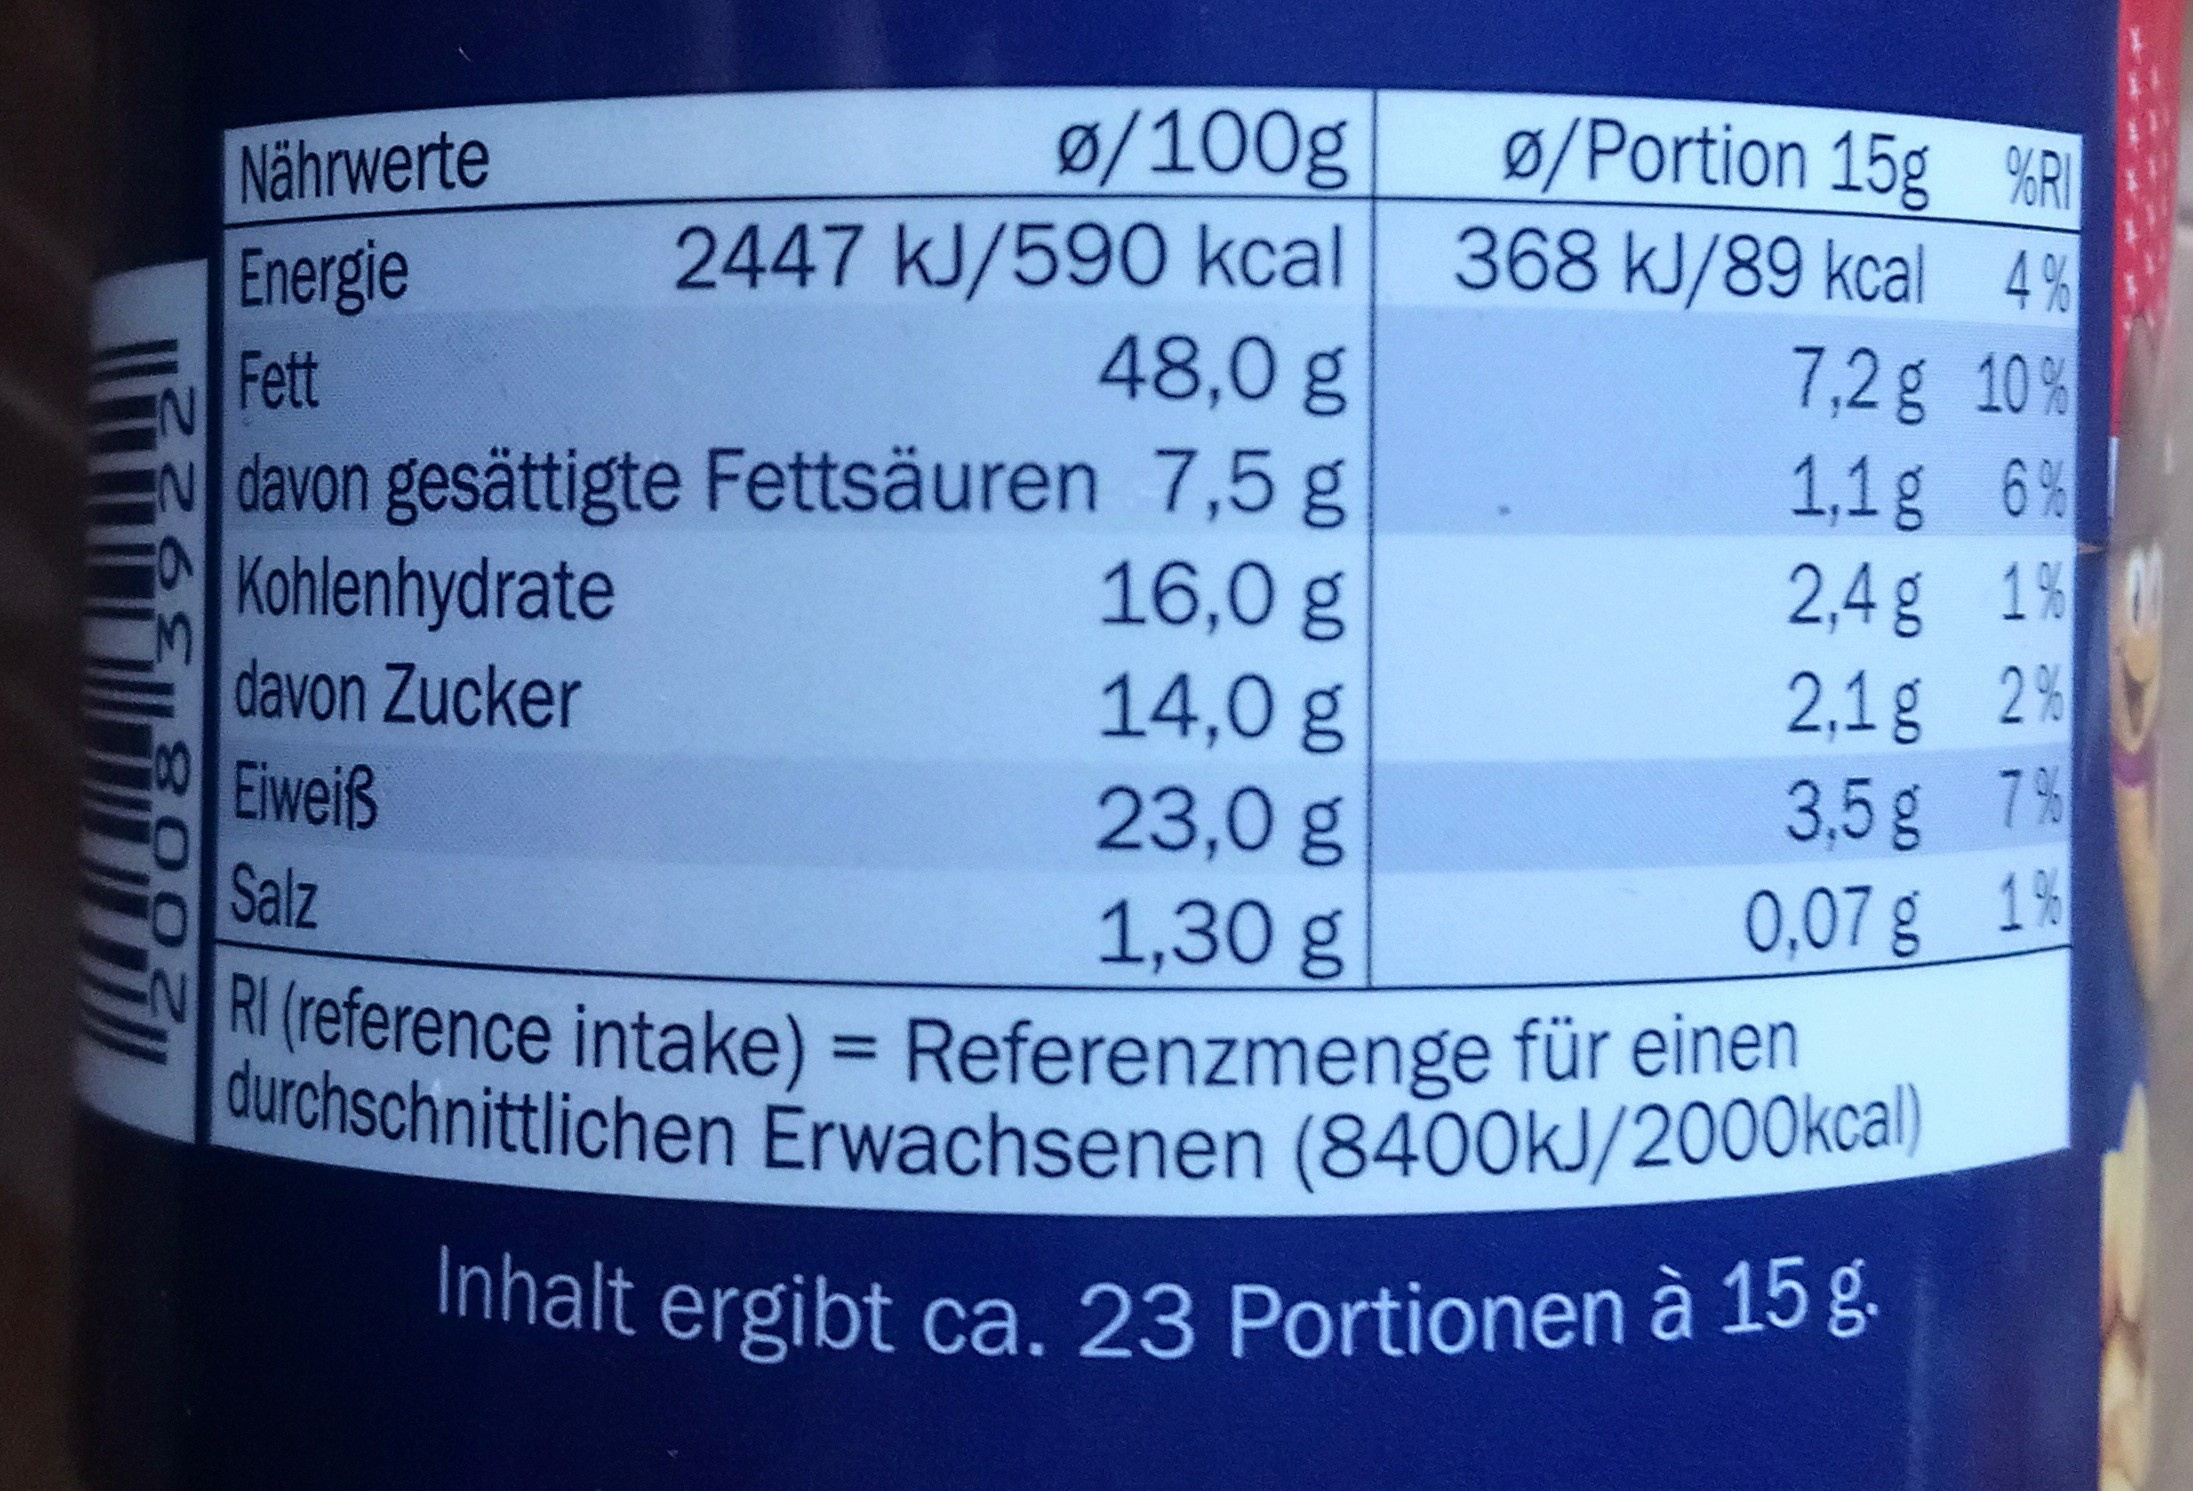column: (231, 102, 1363, 983), (1393, 102, 2088, 988)
table: (223, 126, 2075, 978)
